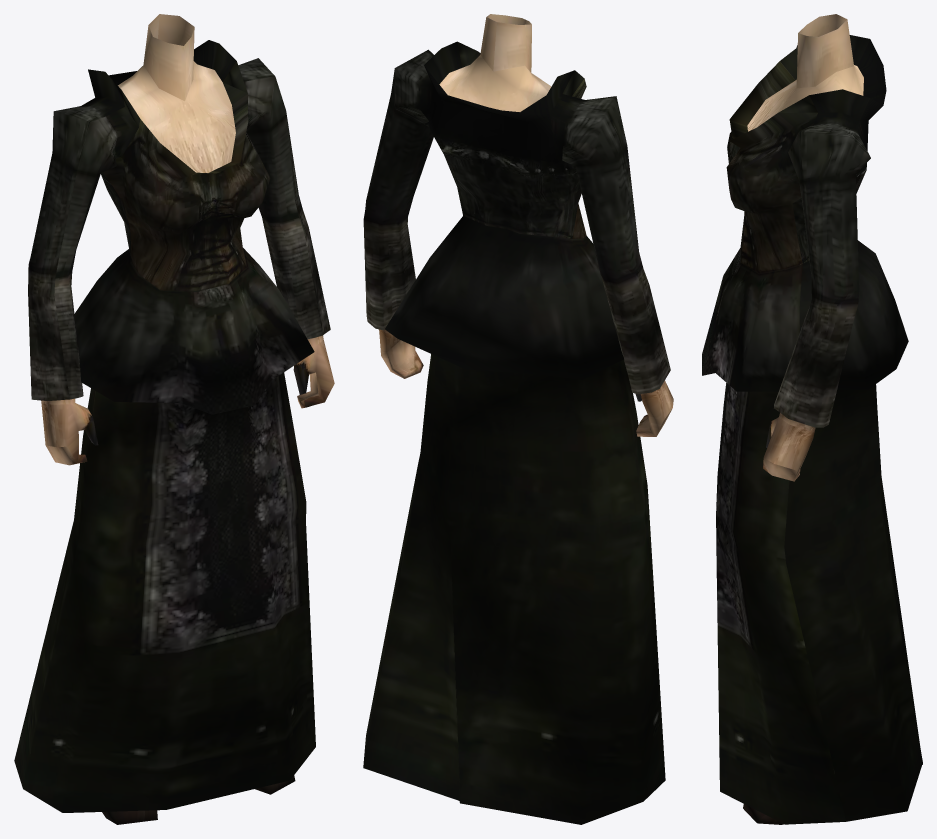
Rendered from ARMOR_KM_VLKBABE_03.glb.
The picture shows the model from 3 angles, left to right: view 1: azimuth 30°, elevation 25°; view 2: azimuth 150°, elevation 25°; view 3: azimuth 270°, elevation 25°; orthographic projection.
Visible parts, largest first — view 1: ARMOR_KM_VLKBABE_03; view 2: ARMOR_KM_VLKBABE_03; view 3: ARMOR_KM_VLKBABE_03.
Boxes of the visible parts, <box> form: ARMOR_KM_VLKBABE_03: <box>14,14,334,824</box>; ARMOR_KM_VLKBABE_03: <box>363,14,673,824</box>; ARMOR_KM_VLKBABE_03: <box>702,14,922,824</box>.
Size of the model in its own units: 0.6681 by 1.68 by 0.4406.
2 materials, 2 textured.
